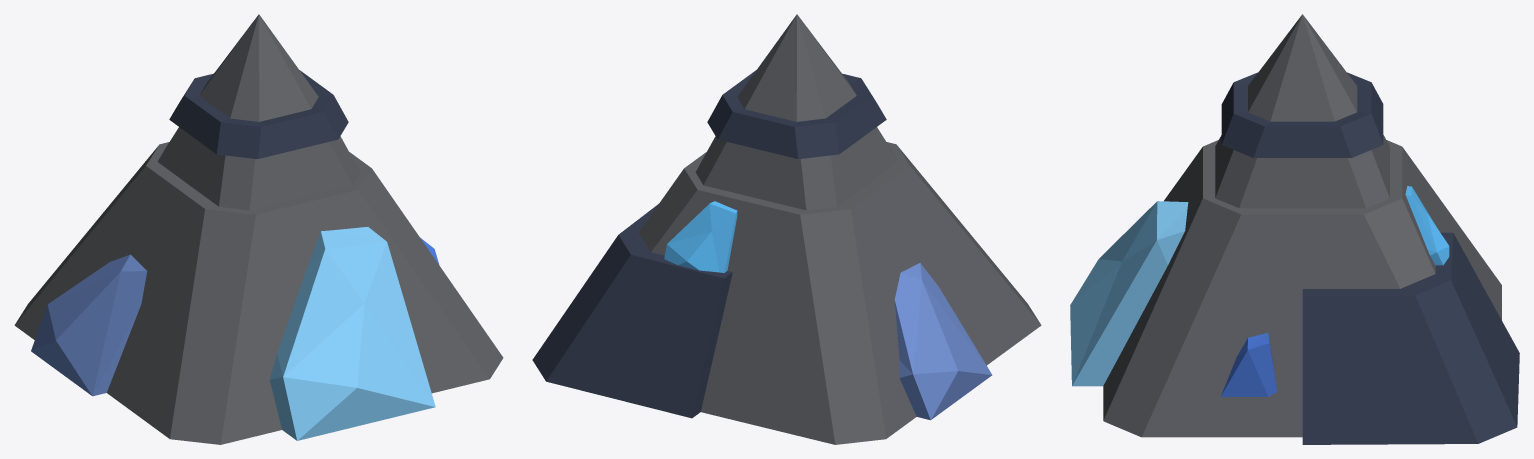
File: crystal rock.fbx
3 views of the same model, side by side, from view 1: azimuth 30°, elevation 25°; view 2: azimuth 150°, elevation 25°; view 3: azimuth 270°, elevation 25° (orthographic). The views are drawn at different scales.
Parts seen in each view (by area): view 1: SP_Plant01, Crystal; view 2: SP_Plant01, Crystal; view 3: SP_Plant01, Crystal.
Part boxes in pixels (x1,y1,x2,y2): SP_Plant01: (14, 14, 503, 444); Crystal: (31, 227, 439, 440); SP_Plant01: (532, 14, 1041, 444); Crystal: (664, 201, 992, 420); SP_Plant01: (1103, 14, 1519, 444); Crystal: (1070, 186, 1449, 396).
Bounding box in the file's own units: 115 × 98.8 × 119.
